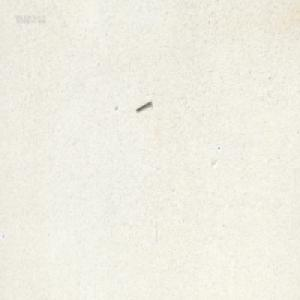Bolt: (135, 98, 151, 111)
